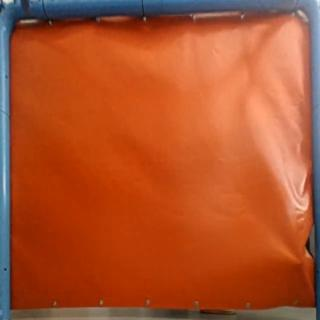Hit-hRxx: (290, 254, 306, 268)
